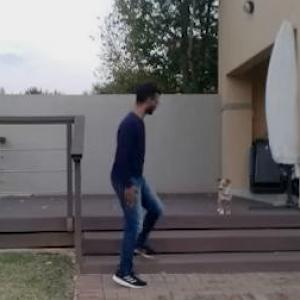follow: (108, 84, 163, 258)
